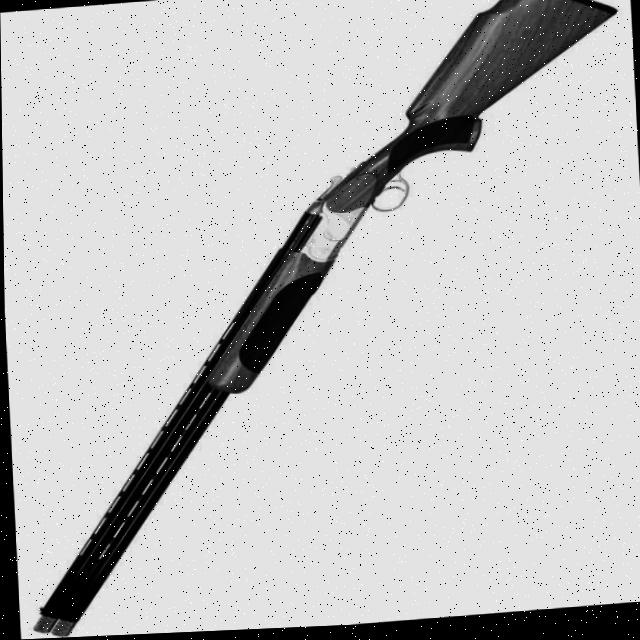firearm: (4, 0, 640, 637)
